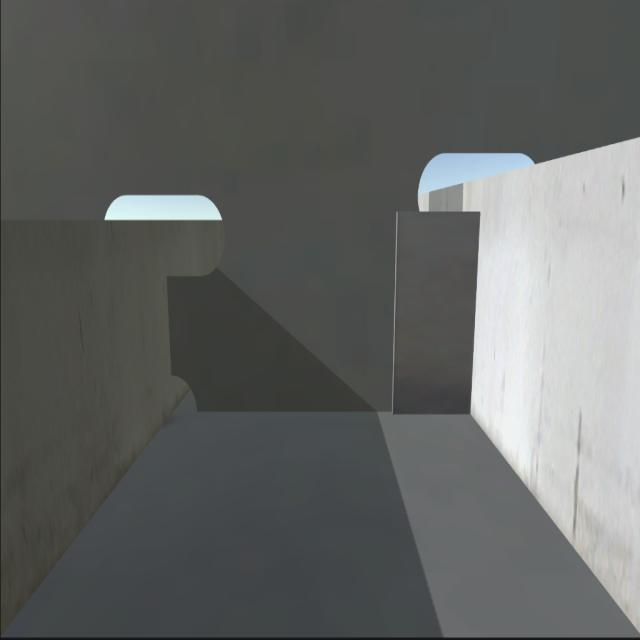fillet_hole: (171, 367, 202, 418)
fillet_yong_jeop_jang: (198, 398, 472, 421)
longi_yong_jeop_jang: (464, 210, 484, 420), (162, 274, 175, 372)
plate_CP01: (395, 209, 474, 414)
